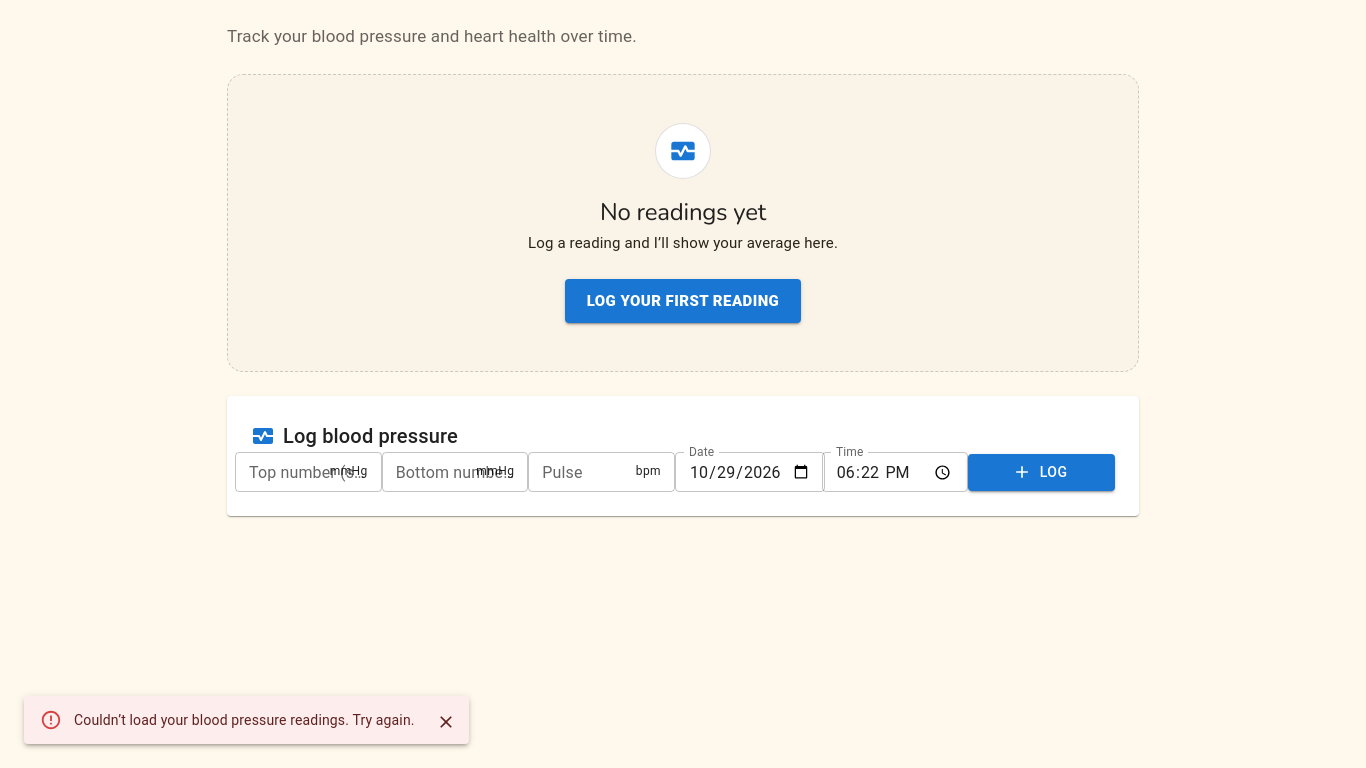
Test: BP page with no readings › offers "Log your first reading", which opens the add form
Check: the text "No readings yet" is shown once, box [600, 198, 766, 226]
Click the button "Log your first reading" at (683, 301), box [565, 279, 801, 323]
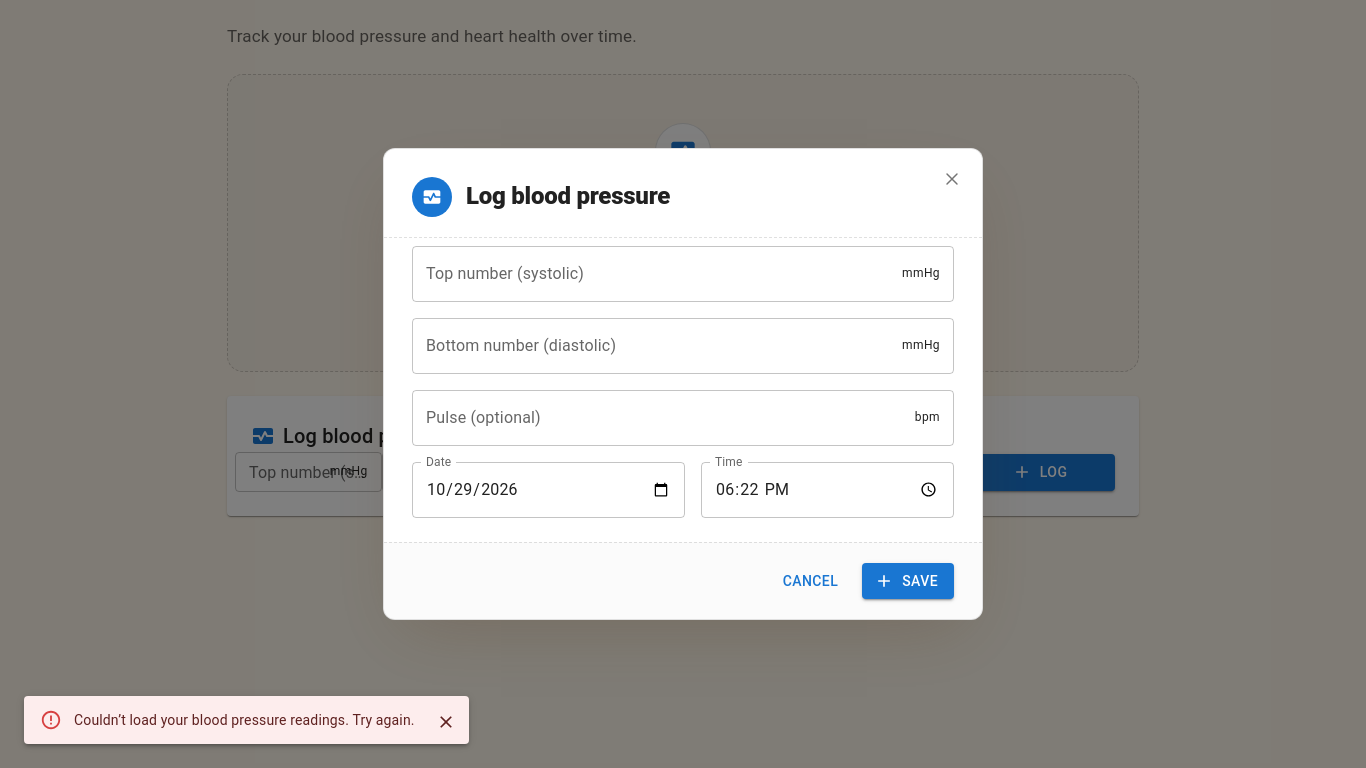
Check: the dialog is shown, box [383, 148, 983, 620]
